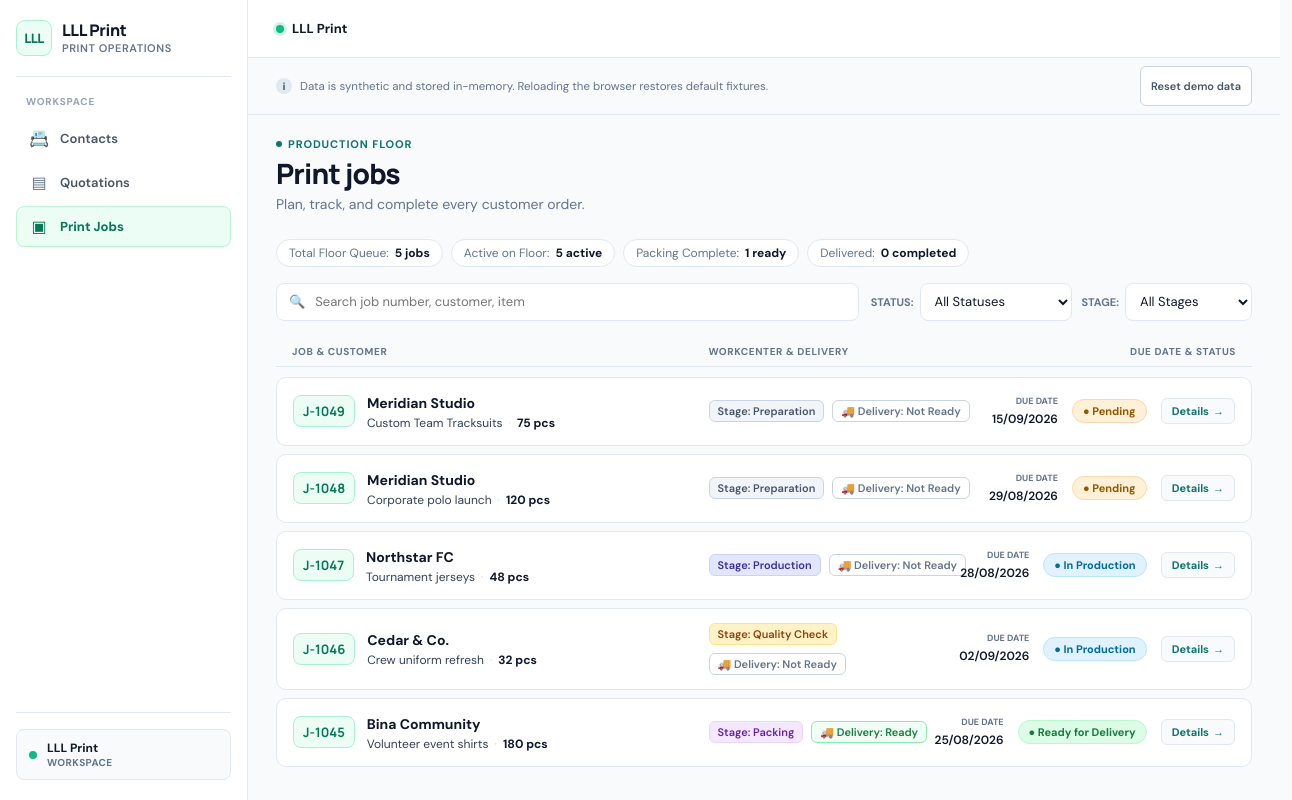
Test case: End-to-end user journey: record creation, route persistence, and demo reset (T4) › creates a job through quotation conversion, navigates away and back, and resets via demo reset button
The image size is (1292, 800).
Check: the heading "Print jobs" is shown, box [276,154,400,192]
Check: the text "Corporate polo launch" is shown, box [367,492,492,508]
# Navigate away to /quotations via desktop sidebar
Click the button "▤ Quotations".
click(124, 182)  # box [16,162,231,203]
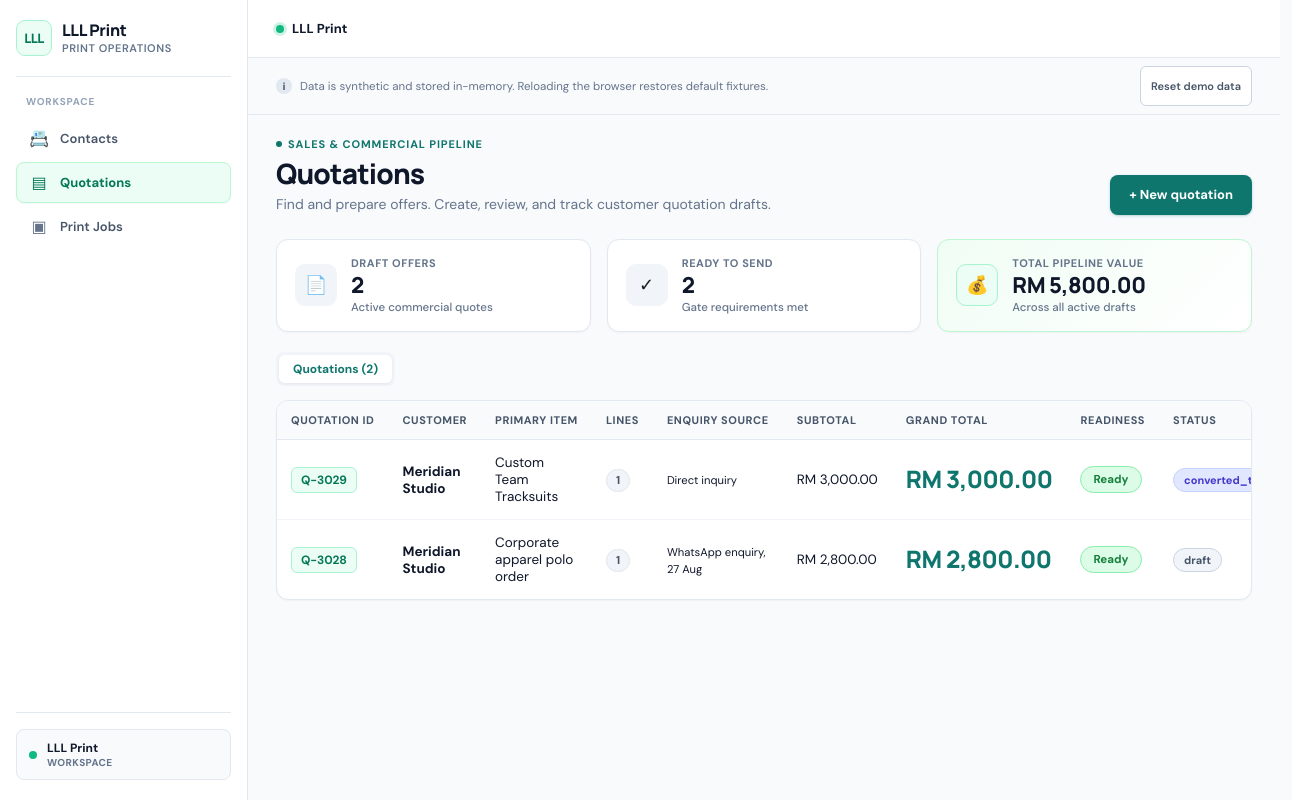
Check: the heading "Quotations" is shown, box [276,154,424,192]
# Navigate back to /jobs via desktop sidebar
Click the button "▣ Print Jobs".
click(124, 226)  # box [16,206,231,247]
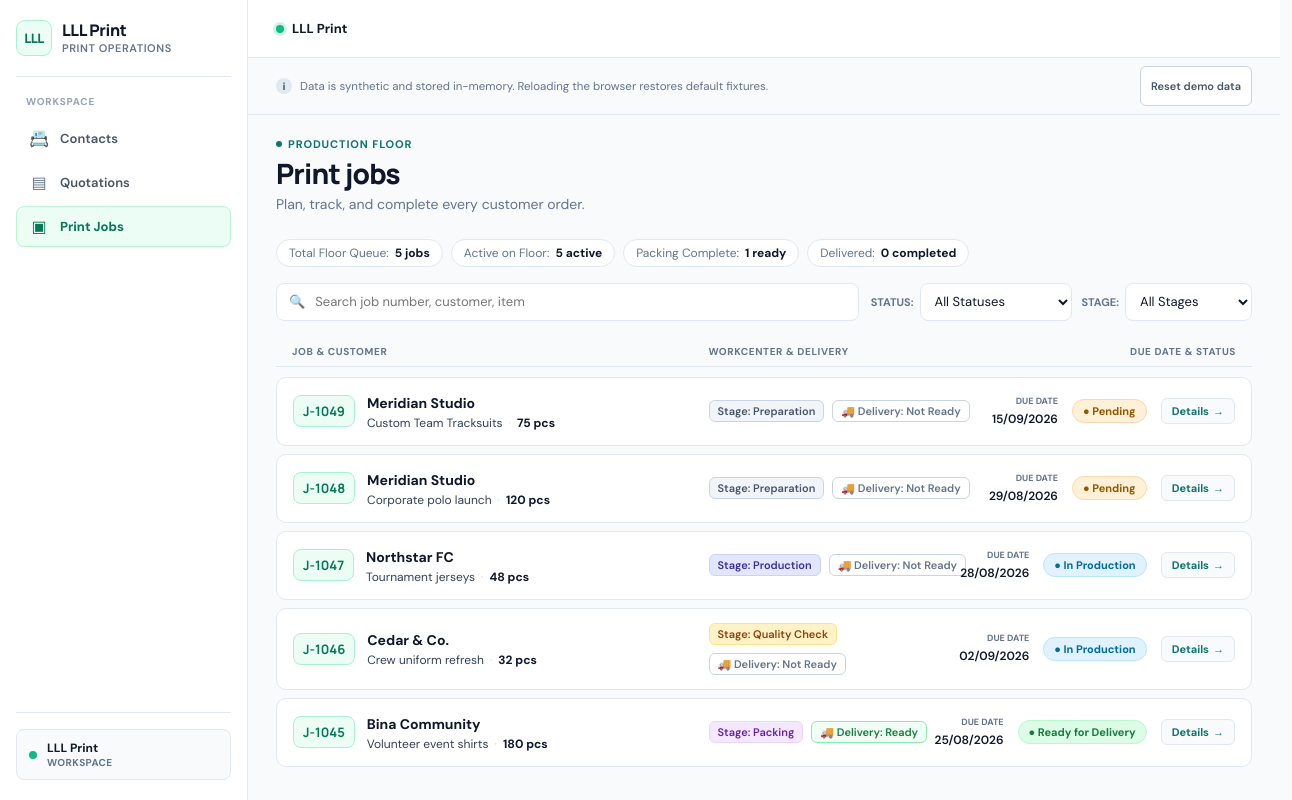
Check: the text "Custom Team Tracksuits" is shown, box [367,415,503,431]
Check: the heading "Print jobs" is shown, box [276,154,400,192]
# Click demo reset button on the demo notice banner
Click the button "Reset demo data".
click(1196, 86)  # box [1140,66,1252,106]
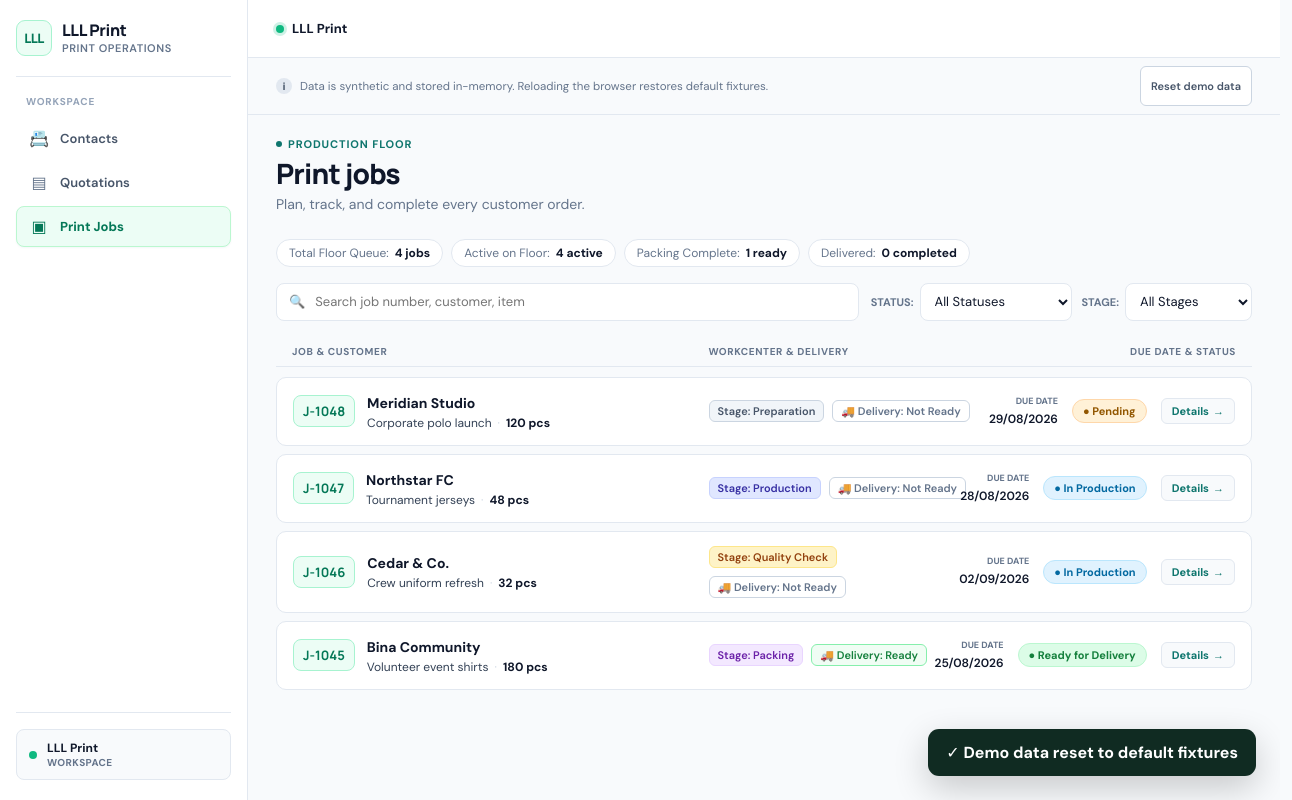
Check: the text "Corporate polo launch" is shown, box [367,415,492,431]
Check: the message shows "Demo data reset to default fixtures", box [964,742,1238,763]
Check: the button "Custom Team Tracksuits" is gone
